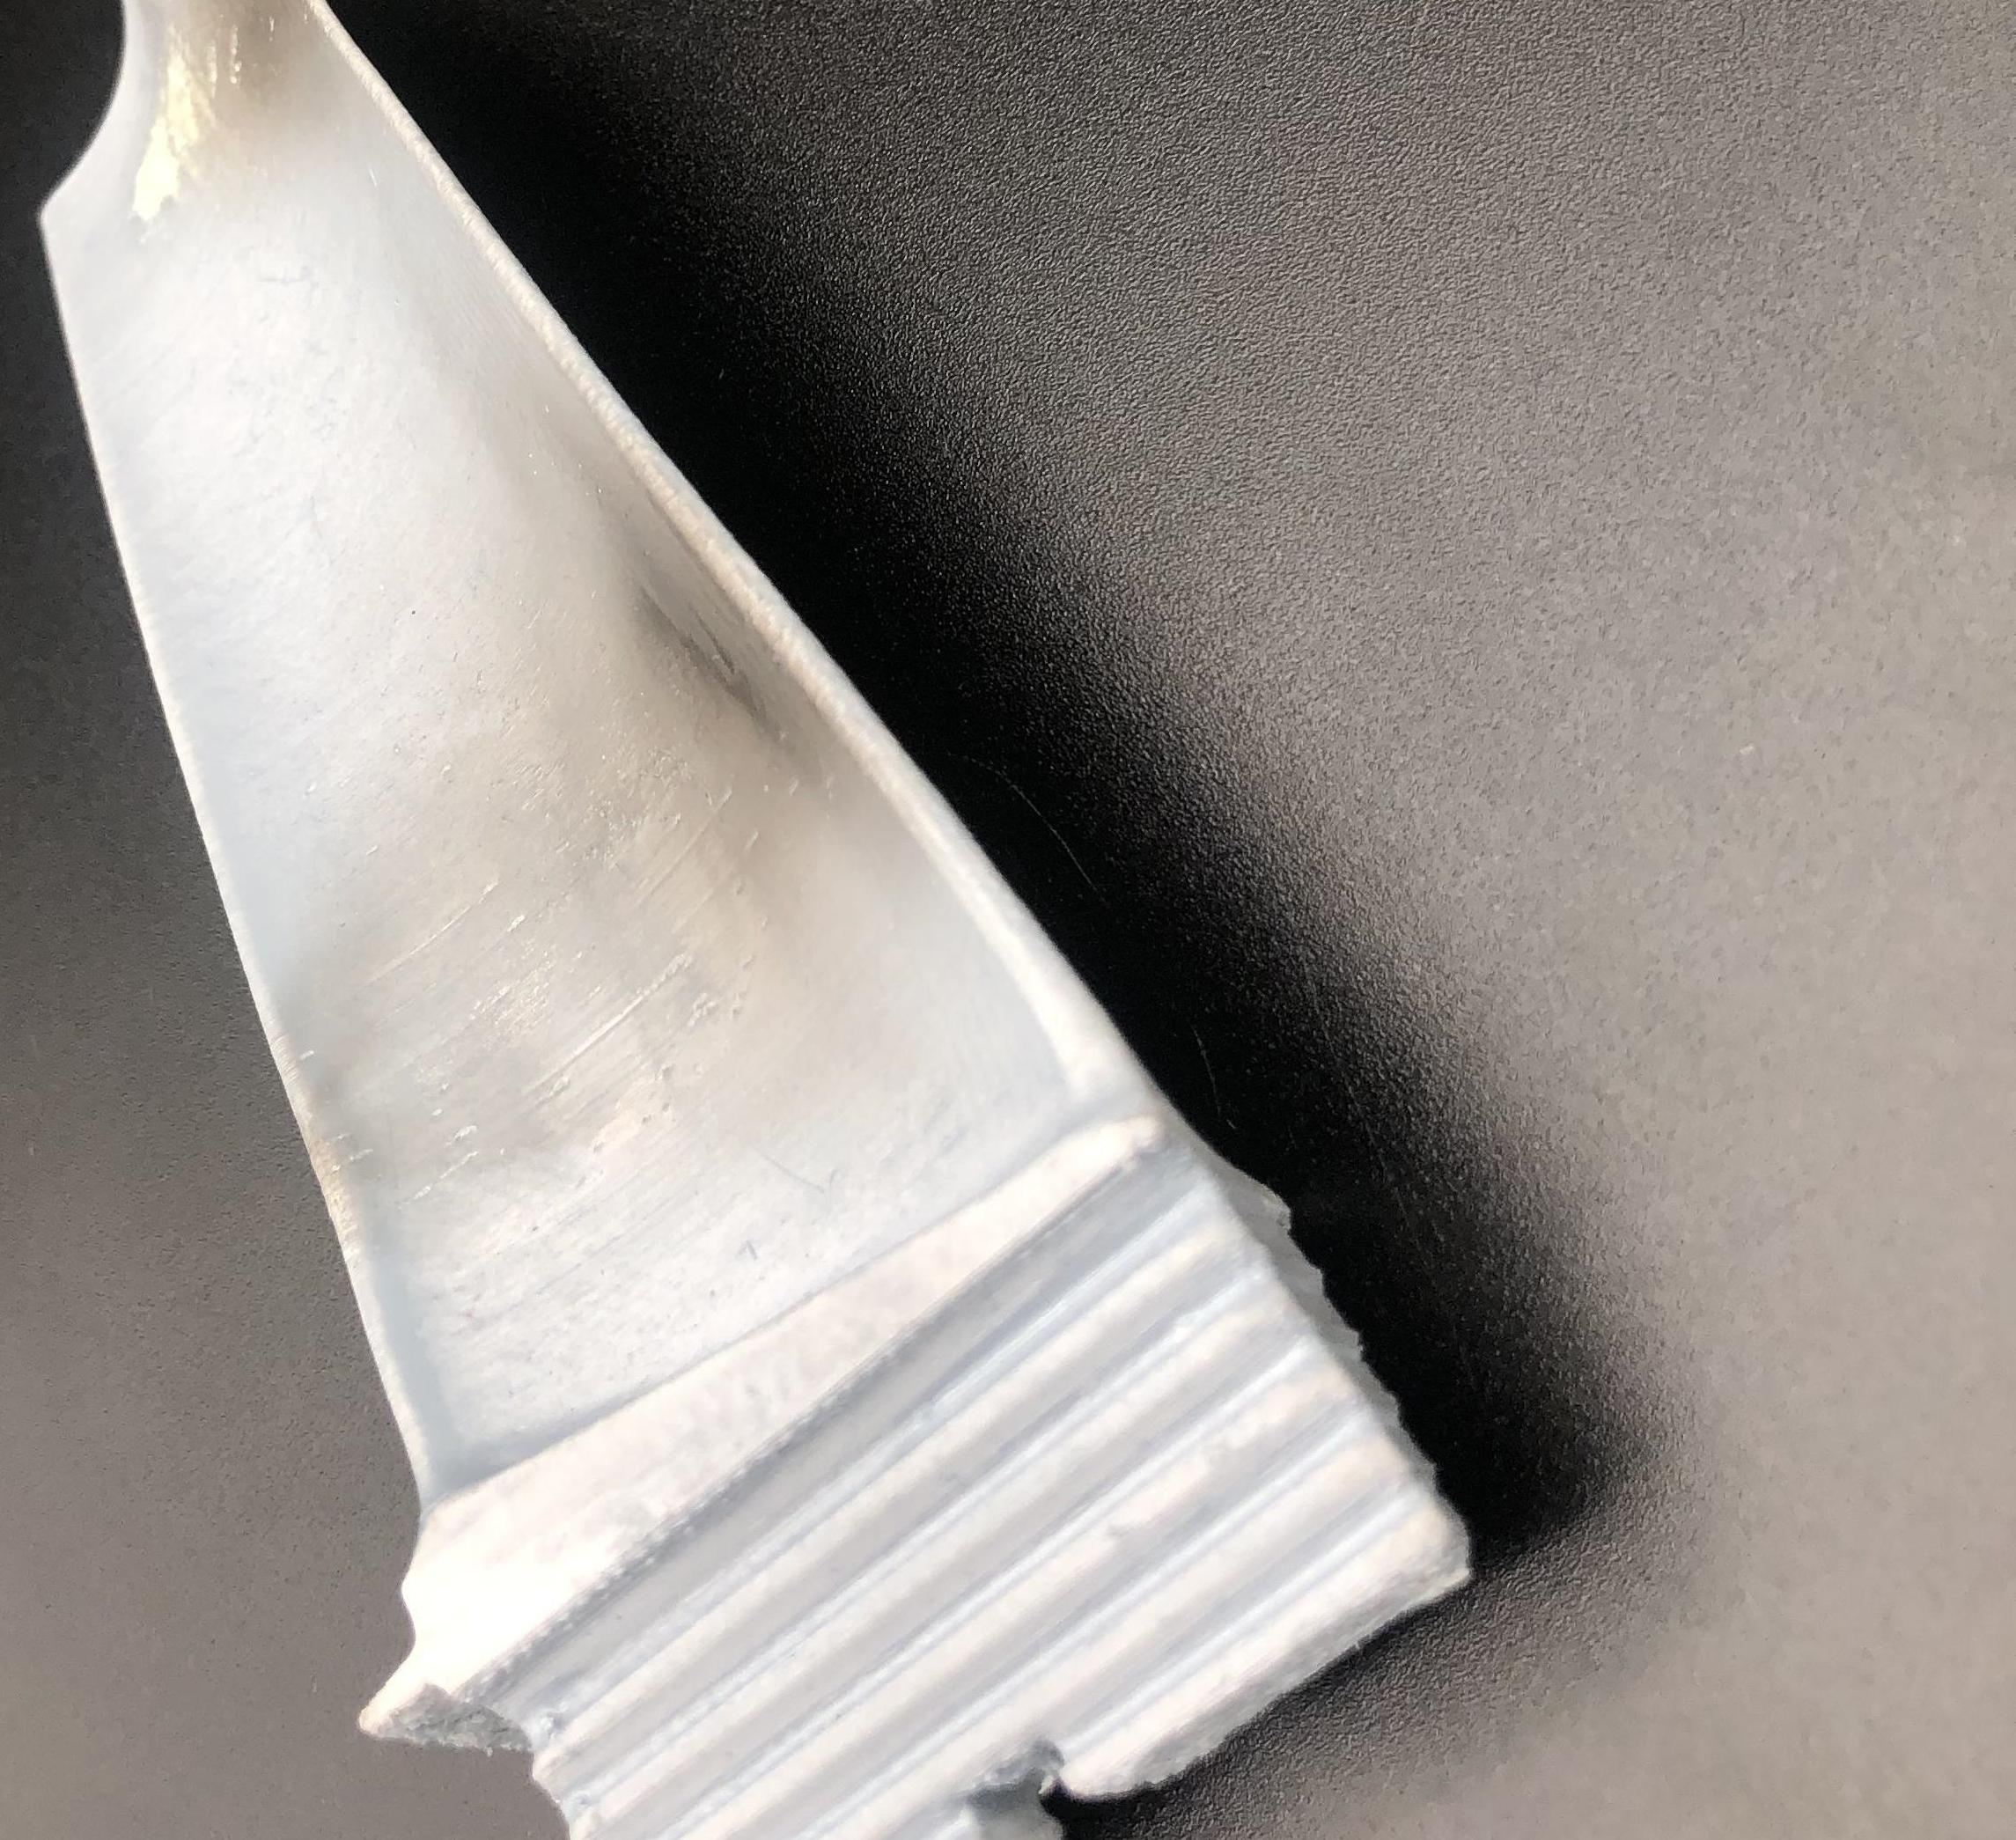ablation: (493, 592, 848, 1078), (133, 9, 341, 188)
